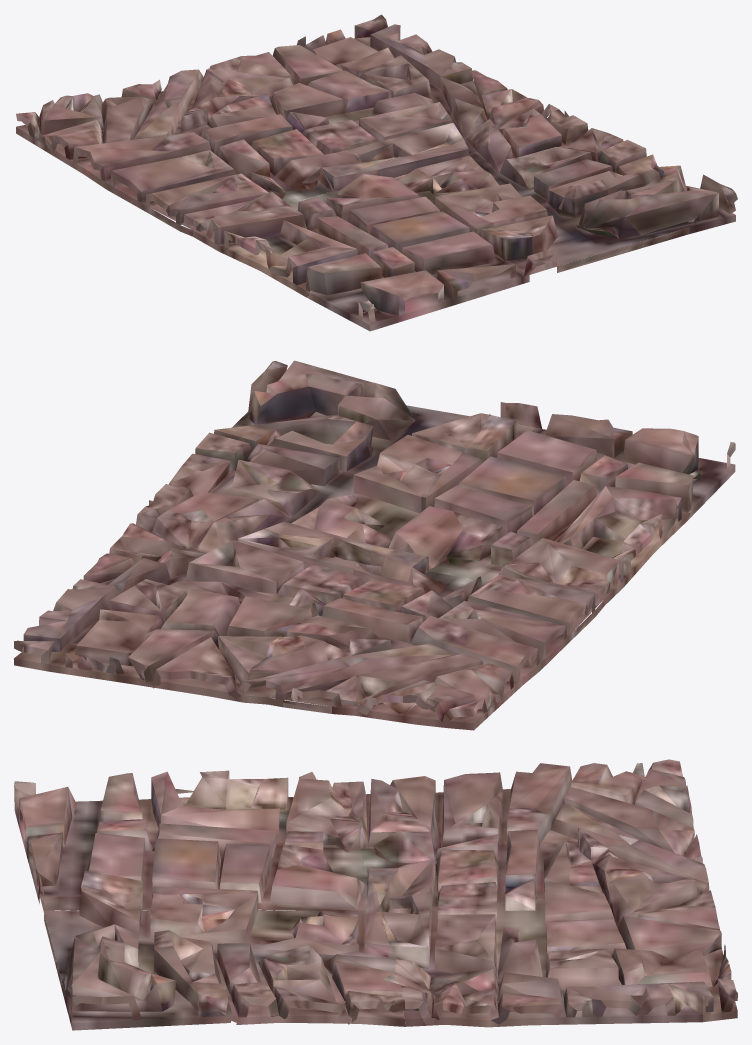
The picture shows the model from 3 angles, top to bottom: view 1: azimuth 30°, elevation 25°; view 2: azimuth 150°, elevation 25°; view 3: azimuth 270°, elevation 25°; orthographic projection. The views are drawn at different scales.
Visible parts, largest first — view 1: Mesh_0; view 2: Mesh_0; view 3: Mesh_0.
Part boxes in pixels (x1=…): Mesh_0: x1=16, y1=14, x2=737, y2=331; Mesh_0: x1=14, y1=360, x2=735, y2=730; Mesh_0: x1=14, y1=759, x2=737, y2=1030.
Size of the model in its own units: 537 by 66.72 by 659.
Materials: 2 (2 with a texture image).
